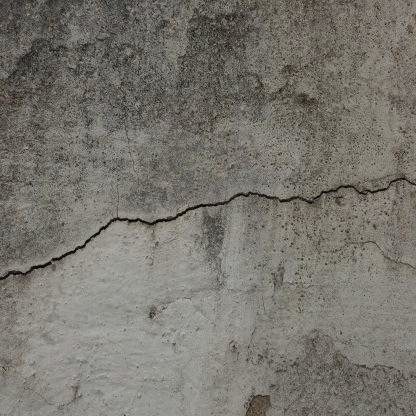crack: (0, 171, 416, 286)
